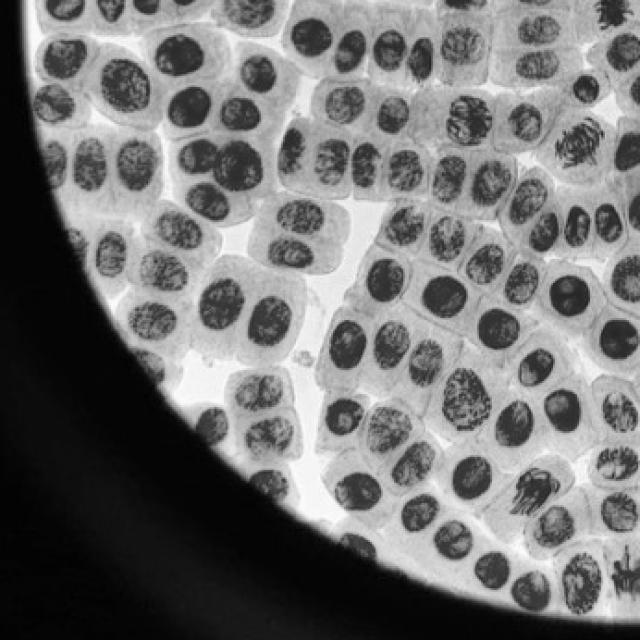anaphase: (546, 110, 611, 173)
interphase: (329, 468, 388, 516), (418, 272, 471, 323), (322, 319, 370, 374), (492, 395, 539, 451), (539, 386, 588, 437), (546, 271, 596, 320), (448, 454, 496, 503), (165, 84, 215, 130), (475, 306, 523, 352), (596, 317, 640, 367), (428, 518, 477, 562), (238, 48, 281, 98), (396, 490, 442, 536), (364, 256, 406, 305), (514, 346, 560, 390), (319, 397, 367, 438), (376, 91, 412, 141), (610, 253, 640, 307), (592, 199, 628, 244), (561, 202, 593, 249)
metaphase: (597, 540, 640, 616)
prophase: (502, 461, 564, 520), (585, 0, 640, 35)
